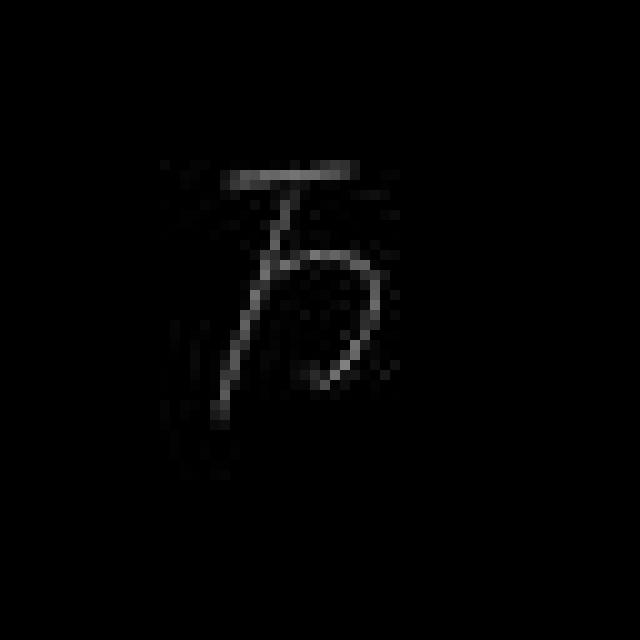10000 -a ten thousand-: (194, 145, 394, 437)
